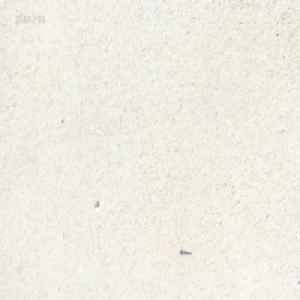Nail: (178, 245, 191, 254)
